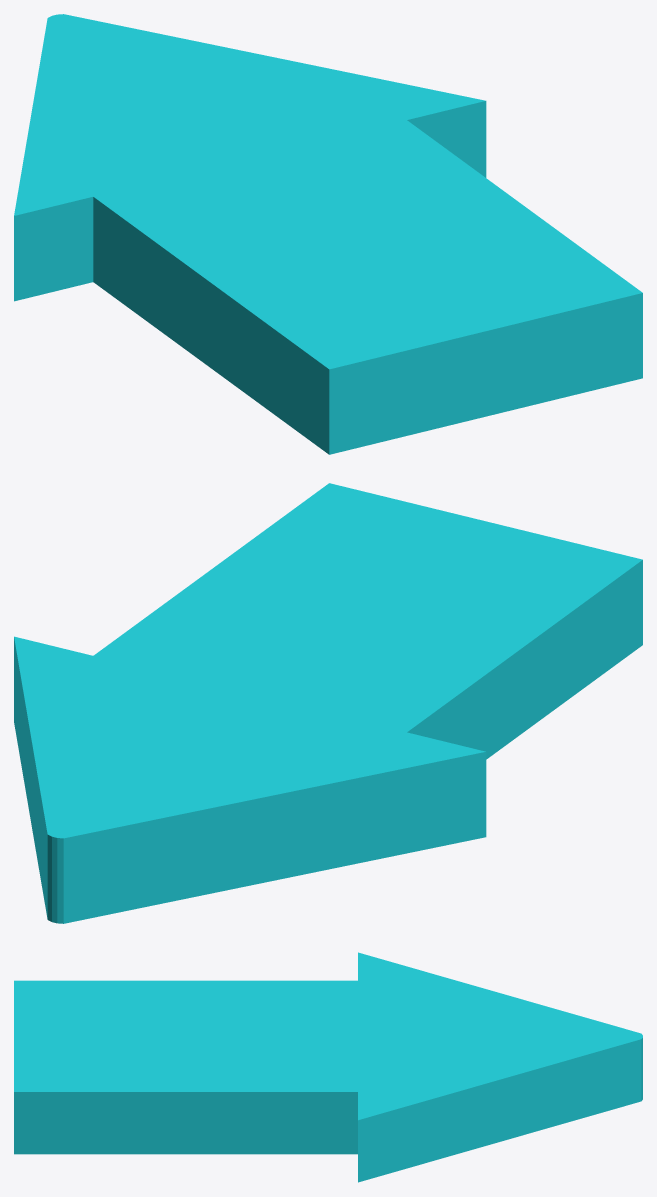
Rendered from Arrow.fbx.
3 renders of one model, top to bottom at view 1: azimuth 30°, elevation 25°; view 2: azimuth 150°, elevation 25°; view 3: azimuth 270°, elevation 25°, orthographic. The views are drawn at different scales.
Visible parts, largest first — view 1: Plane; view 2: Plane; view 3: Plane.
Boxes of the visible parts, x1=… form: Plane: x1=14, y1=14, x2=642, y2=454; Plane: x1=14, y1=483, x2=642, y2=923; Plane: x1=14, y1=952, x2=642, y2=1182.
Size of the model in its own units: 301 by 52.06 by 477.
